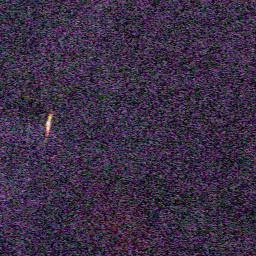Ship: (43, 110, 57, 135)
